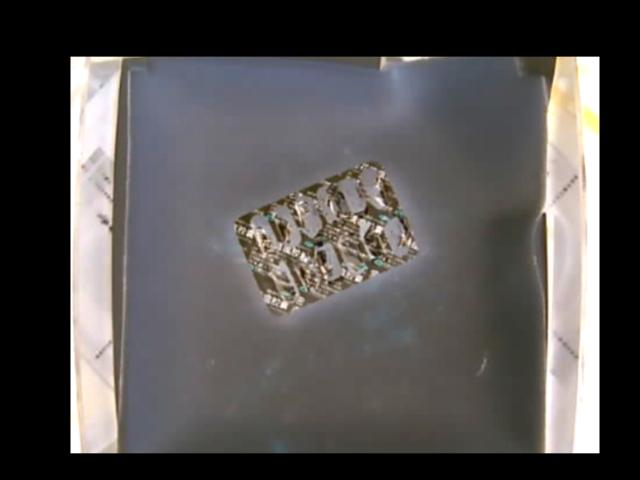Medicine: (239, 160, 420, 313)
